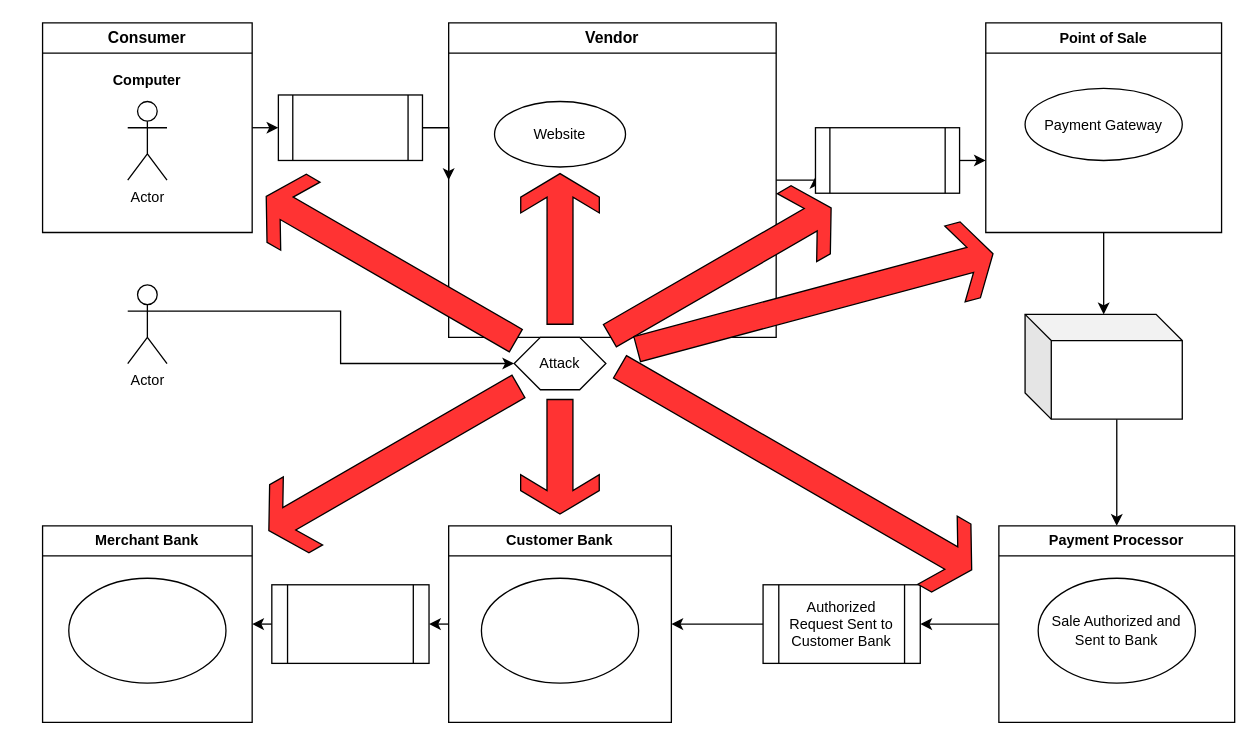
Image size: 1258x745. Some labels were removed from this diagram. Each missing label, with the centre of its shape:
"Cash Transferred to Merchant Bank" belongs at (350,623).
"Encrypted Credit Card Information" belongs at (1103,366).
"Money Deposited into Merchant's Account" belongs at (146,630).
"Place Items in Cart" belongs at (349,127).
"Transaction Approved" belongs at (559,630).
"Unencrypted Credit Card Info" belongs at (887,159).
